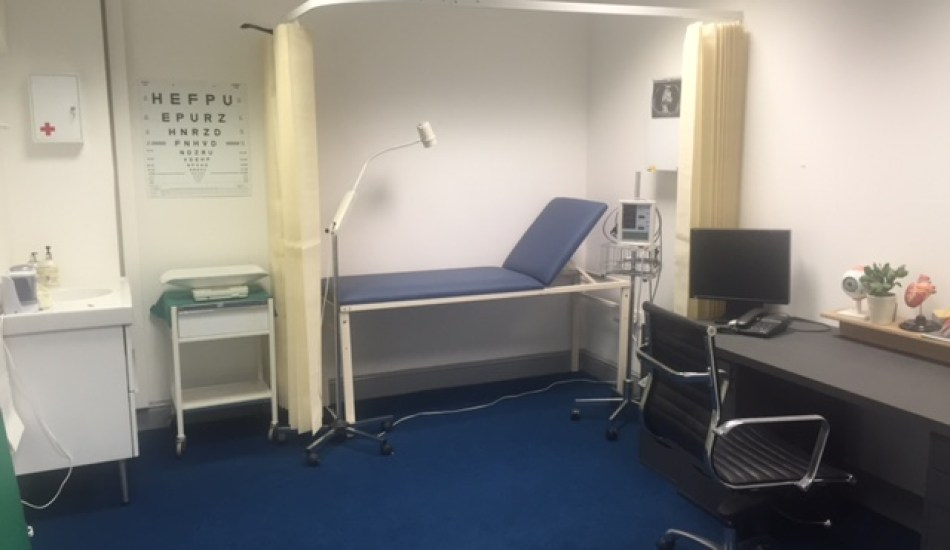chair: (635, 302, 855, 550)
computer: (687, 225, 795, 301)
curtain: (673, 1, 756, 318), (262, 1, 322, 434)
dispenser: (30, 77, 84, 148)
exam_table: (324, 196, 641, 438)
table: (685, 308, 950, 550), (1, 265, 138, 486), (164, 279, 281, 445)
telephone: (726, 307, 790, 337)
